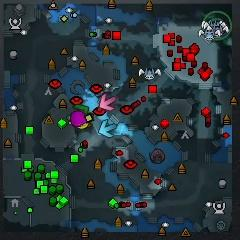p3: (69, 111, 87, 127)
p4: (77, 122, 88, 130)
x1: (99, 95, 115, 111)
x3: (99, 120, 117, 137)
x4: (74, 103, 90, 114)
x5: (86, 113, 94, 129)
